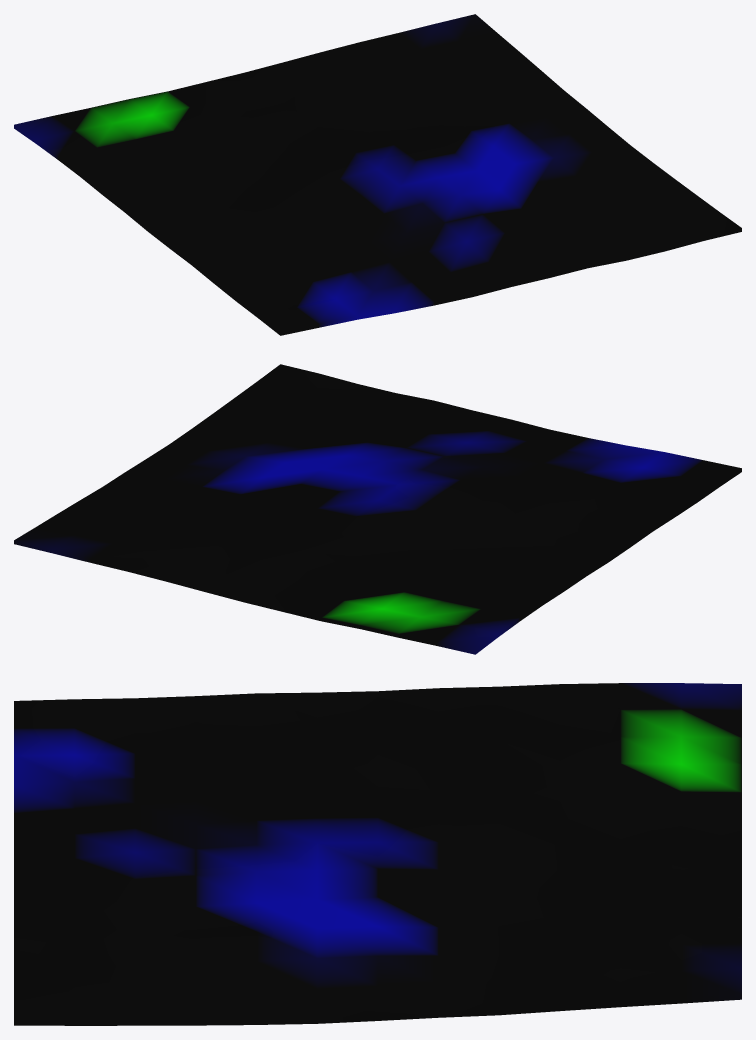
The model's file is coast_14_3.glb.
3 views of the same model, one above another, from view 1: azimuth 30°, elevation 25°; view 2: azimuth 150°, elevation 25°; view 3: azimuth 270°, elevation 25° (orthographic). The views are drawn at different scales.
Parts seen in each view (by area): view 1: terrain; view 2: terrain; view 3: terrain.
Part boxes in pixels (box(x1,y1,x2,y2)): terrain: box(14, 14, 741, 335); terrain: box(14, 364, 741, 654); terrain: box(14, 683, 741, 1025).
Bounding box in the file's own units: 192 × 10.46 × 192.
